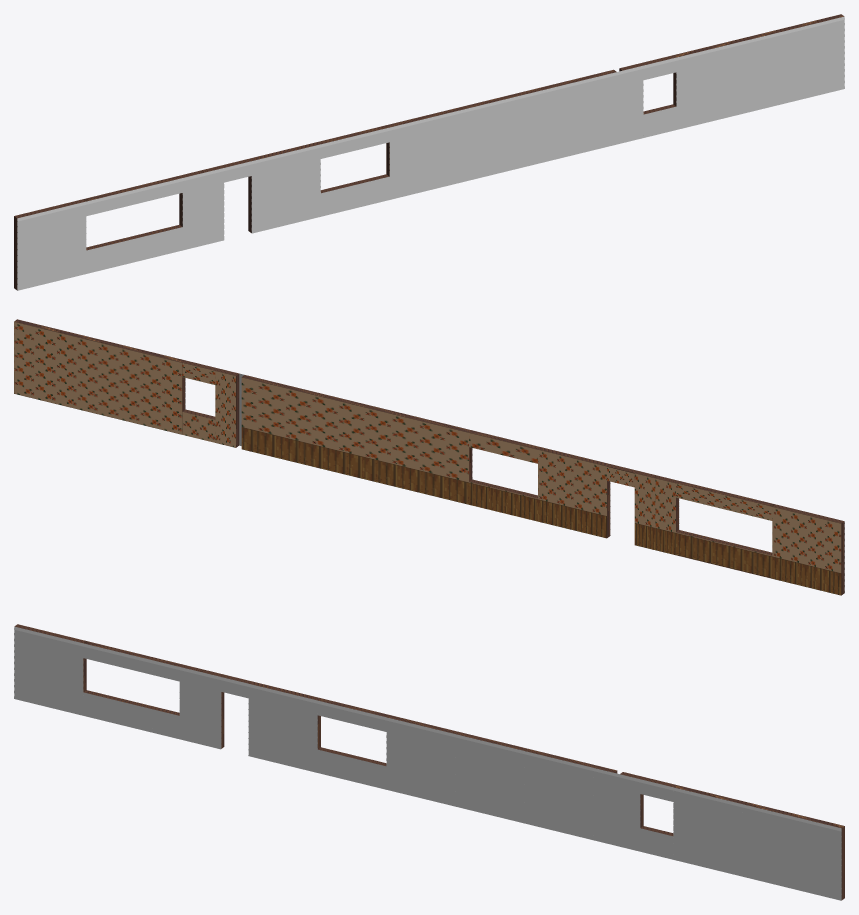
The model's file is Paredes_Externas_Entrada.obj.
The picture shows the model from 3 angles, top to bottom: view 1: azimuth 30°, elevation 25°; view 2: azimuth 150°, elevation 25°; view 3: azimuth 330°, elevation 25°; orthographic projection.
Visible parts, largest first — view 1: Paredes_Externas_Entrada; view 2: Paredes_Externas_Entrada; view 3: Paredes_Externas_Entrada.
Boxes of the visible parts, x1=… form: Paredes_Externas_Entrada: x1=14, y1=14, x2=844, y2=290; Paredes_Externas_Entrada: x1=14, y1=319, x2=844, y2=595; Paredes_Externas_Entrada: x1=14, y1=624, x2=844, y2=900.
Bounding box in the file's own units: 18.75 × 1.56 × 0.1409.
2 materials, 1 textured.
